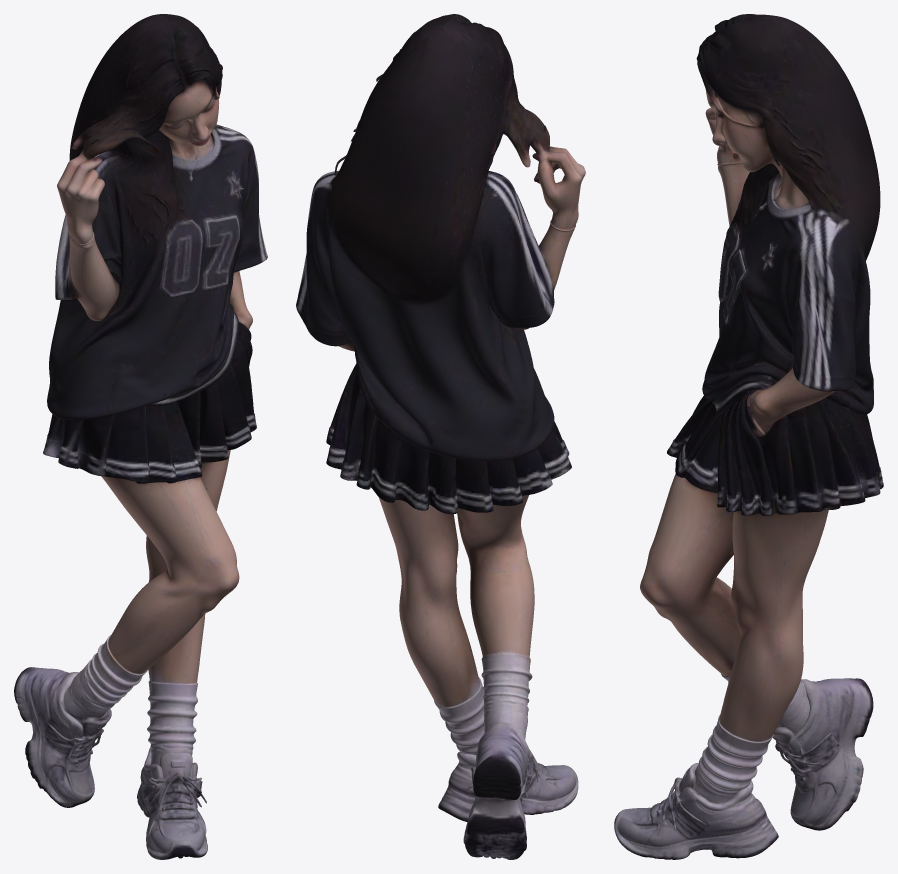
File: Sweaty.glb
3 views of the same model, side by side, from view 1: azimuth 30°, elevation 25°; view 2: azimuth 150°, elevation 25°; view 3: azimuth 270°, elevation 25° (orthographic). The views are drawn at different scales.
Bounding box in the file's own units: 0.3744 × 1.16 × 0.3347.
Materials: 1 (1 with a texture image).
